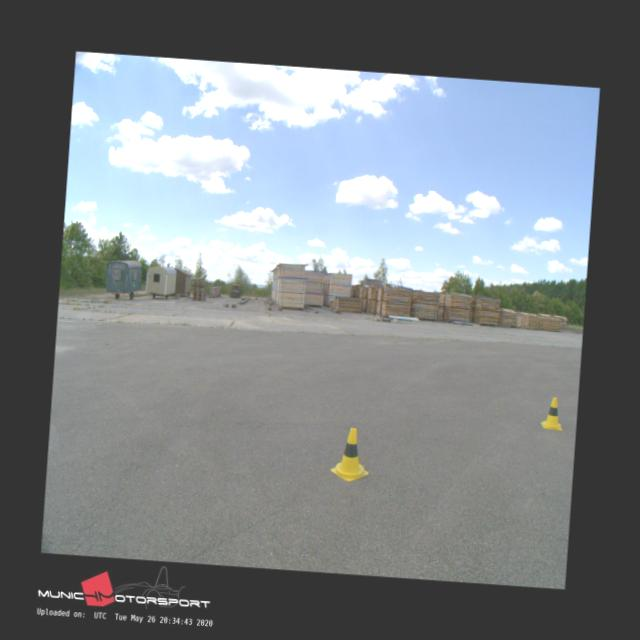yellow_cone: (329, 424, 372, 482), (539, 396, 563, 430)
